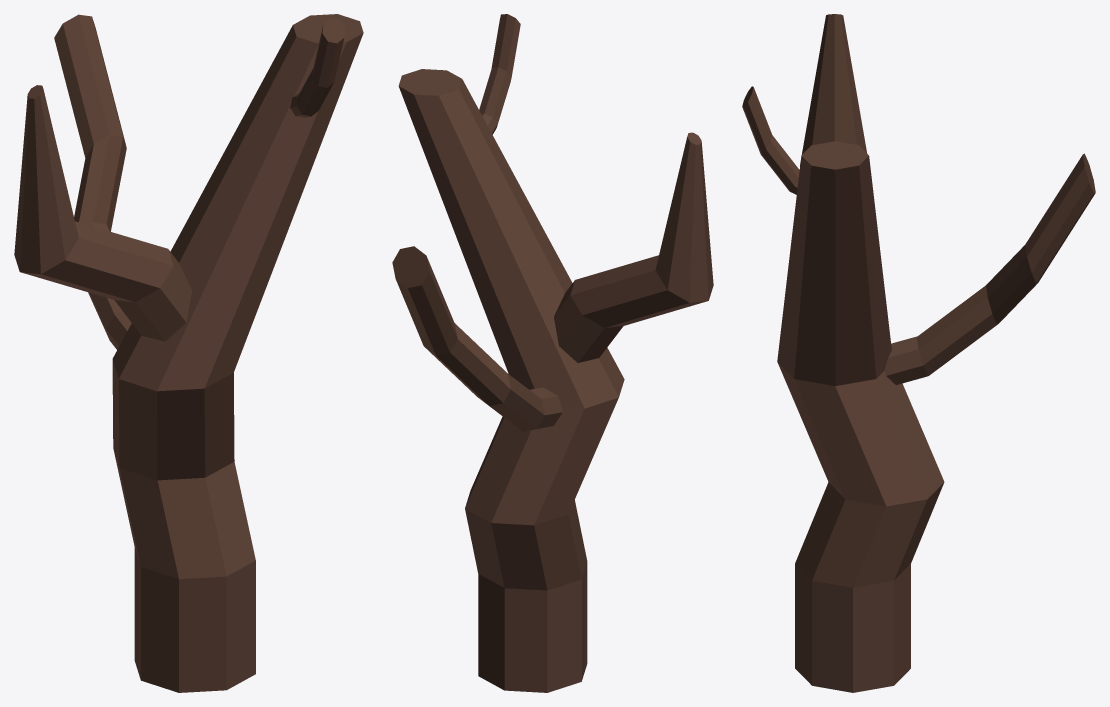
The model's file is tree 3.fbx.
The picture shows the model from 3 angles, left to right: view 1: azimuth 30°, elevation 25°; view 2: azimuth 150°, elevation 25°; view 3: azimuth 270°, elevation 25°; orthographic projection. The views are drawn at different scales.
Parts seen in each view (by area): view 1: Tree 1; view 2: Tree 1; view 3: Tree 1.
Boxes of the visible parts, <box> form: Tree 1: <box>14,14,363,692</box>; Tree 1: <box>392,14,713,692</box>; Tree 1: <box>742,14,1095,692</box>.
Size of the model in its own units: 626 by 1176 by 610.
